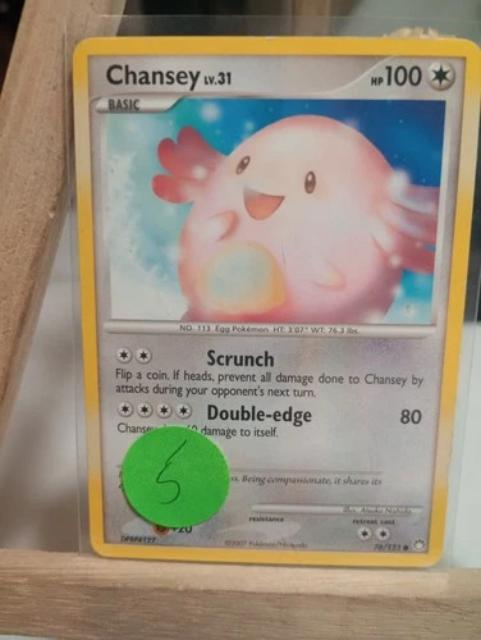Card: (70, 32, 480, 571)
Name: (100, 59, 205, 91)
